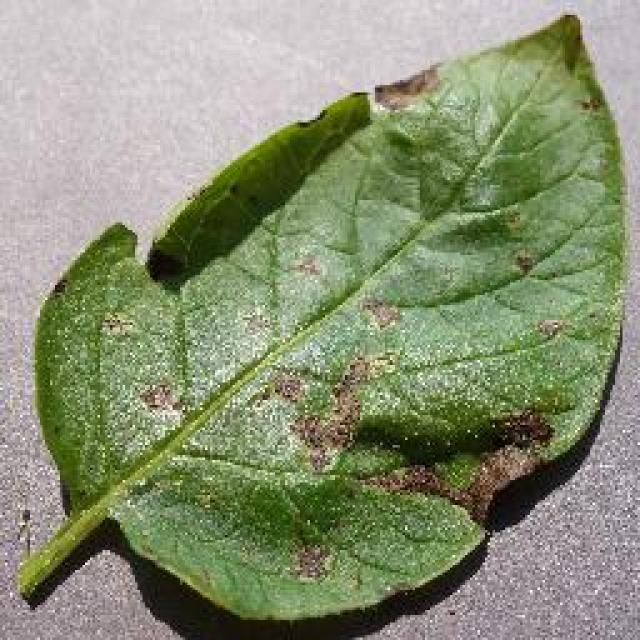early_blight: (12, 10, 632, 628)
